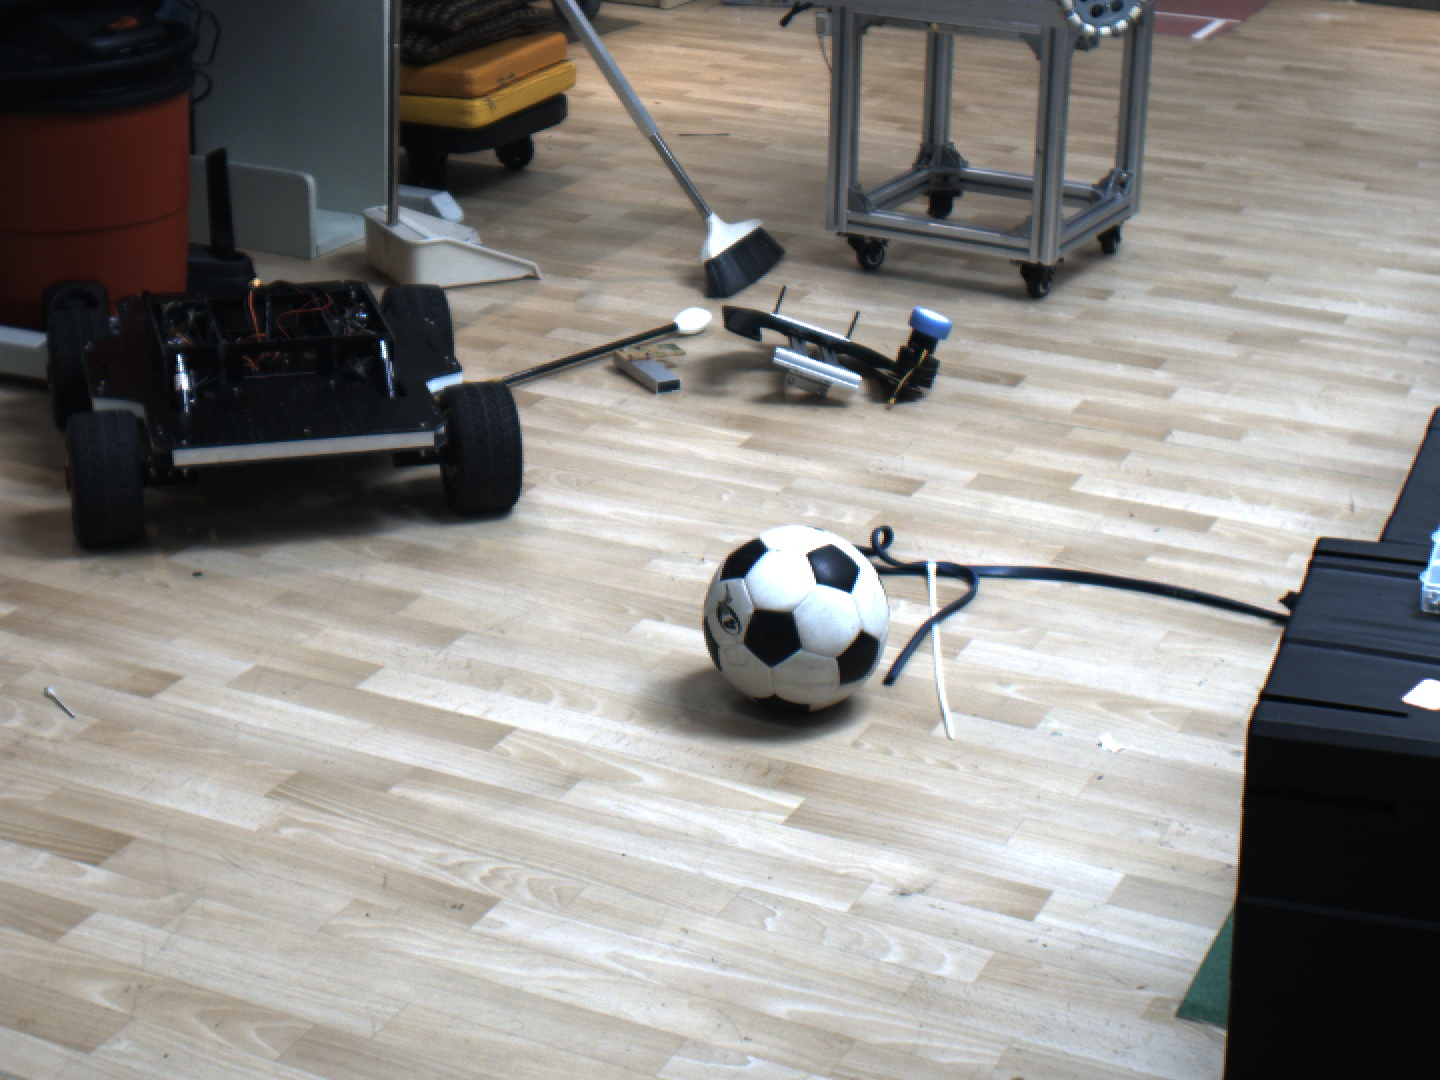ball: (685, 518, 900, 715)
